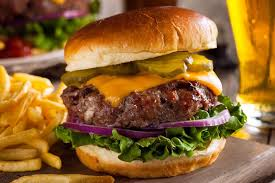hamburger: (59, 6, 228, 177)
